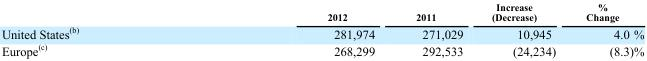table: (0, 1, 643, 57)
table column: (0, 1, 202, 57), (202, 1, 394, 57), (476, 1, 570, 57), (394, 1, 476, 57), (570, 1, 643, 57)
table column header: (0, 1, 643, 23)
table row: (0, 1, 643, 23), (0, 23, 643, 41), (0, 41, 643, 57)
